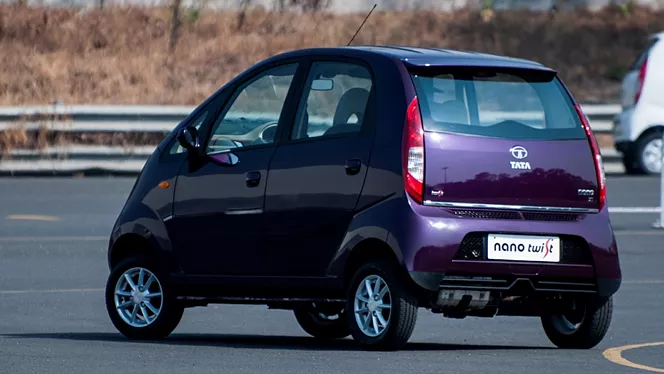Nano: (106, 41, 622, 351)
